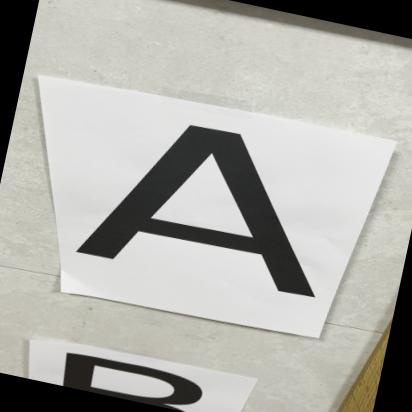seat: (48, 83, 356, 316)
